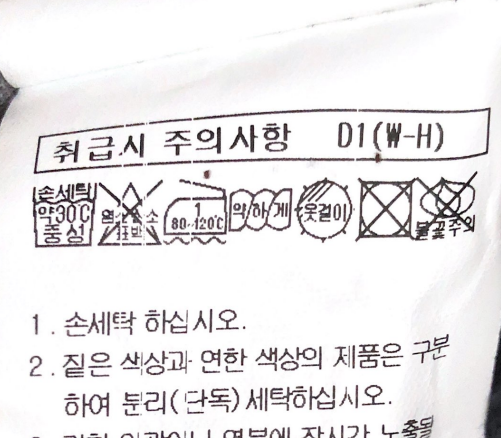KR_gentle_wring: (227, 184, 295, 236)
KR_hand_wash_30_neutral: (27, 179, 98, 250)
KR_hang_dry_in_shade: (296, 177, 354, 244)
KR_iron_low_temp_with_cloth: (163, 177, 228, 248)
KR_no_bleach: (99, 178, 161, 249)
KR_no_tumble_dry: (356, 173, 413, 242)
